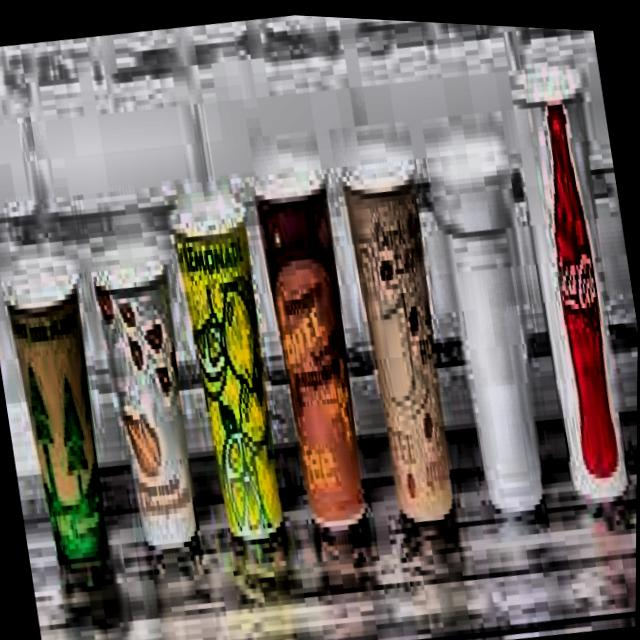Cup: (503, 60, 640, 524), (418, 111, 562, 517), (246, 138, 389, 545), (332, 135, 470, 531), (161, 163, 298, 547), (85, 221, 217, 571), (0, 232, 130, 585)
